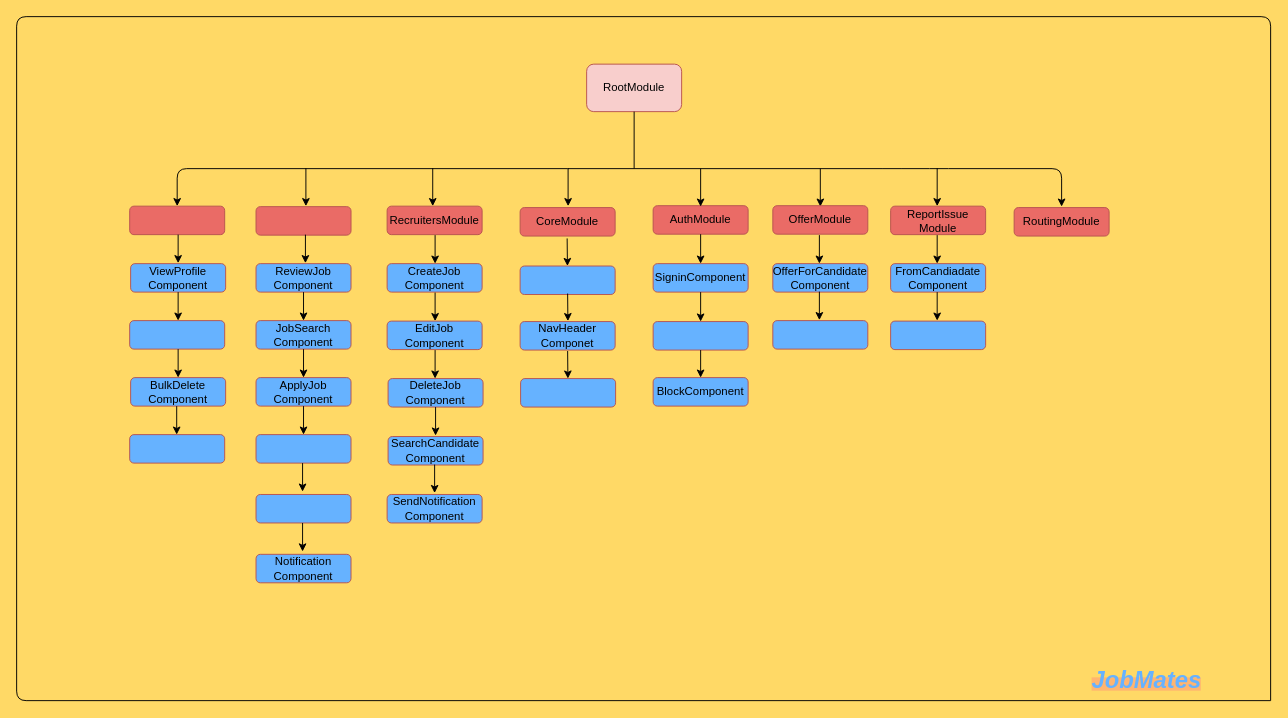
This 1288x718 diagram has some shape labels left out. The centre of each missing label's shape, as x and y in pixels:
"AboutUs Component" belongs at pixel 568 392.
"AdminModule" belongs at pixel 177 220.
"BulkUpload Component" belongs at pixel 177 334.
"CandidateModule" belongs at pixel 303 220.
"DashBoard Component" belongs at pixel 177 448.
"Edit/DeleteProfile Component" belongs at pixel 303 448.
"FromRecruiters Component" belongs at pixel 938 335.
"HomeComponent" belongs at pixel 567 279.
"OfferForRecruiter Component" belongs at pixel 820 334.
"SignUpComponent" belongs at pixel 700 335.
"UploadResume Component" belongs at pixel 303 508.
